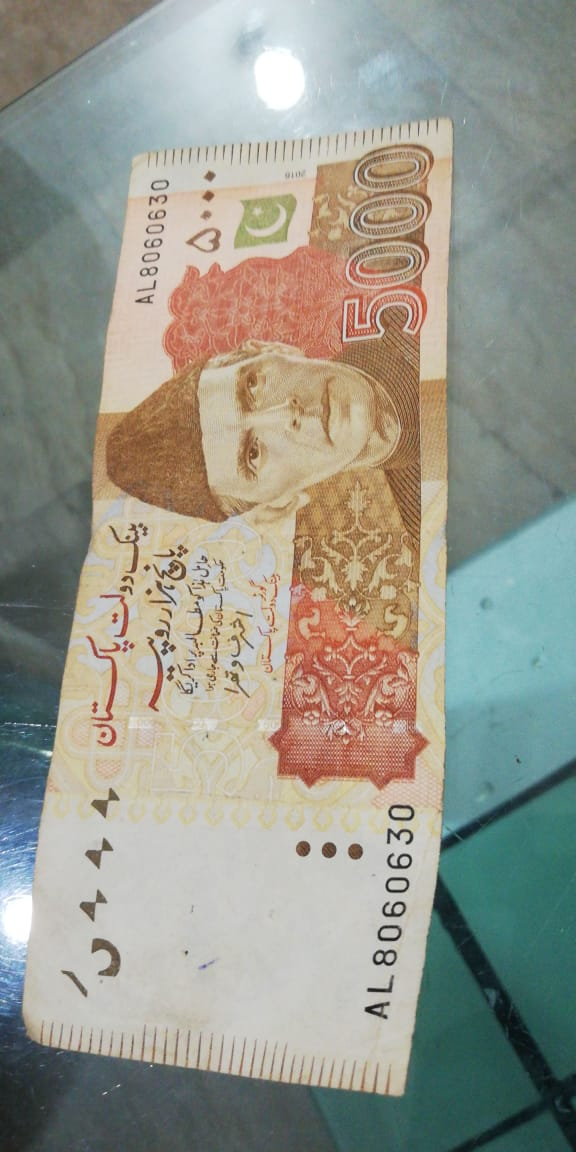5000 rupee: (18, 118, 482, 1145)
